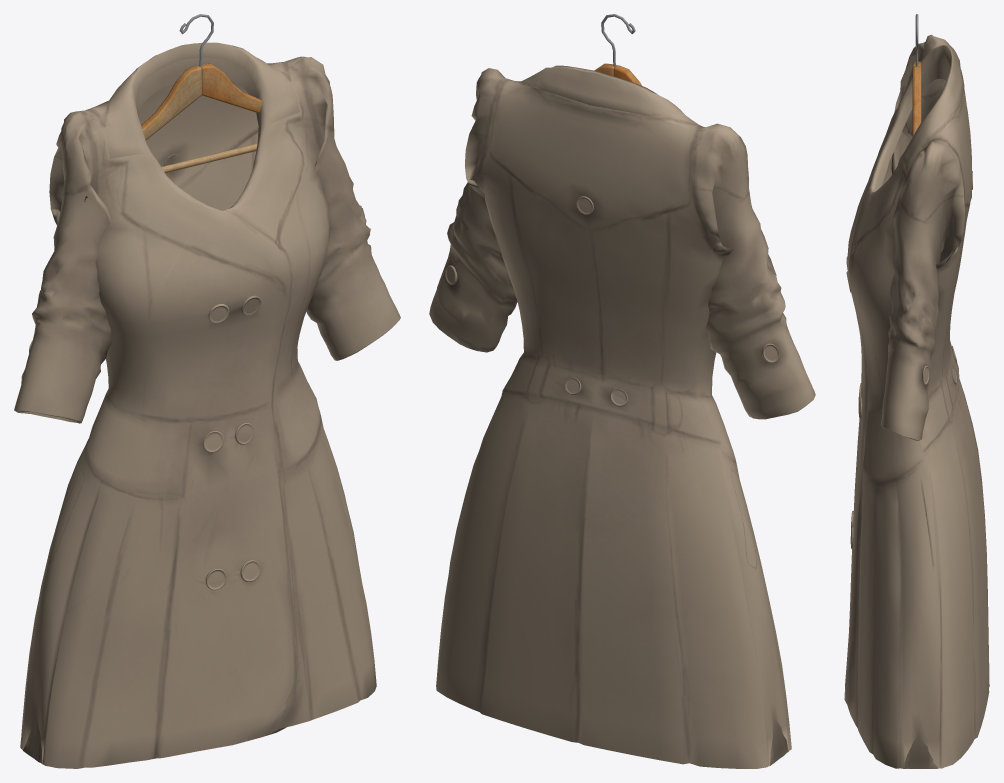
File: tancoat.glb
The picture shows the model from 3 angles, left to right: view 1: azimuth 30°, elevation 25°; view 2: azimuth 150°, elevation 25°; view 3: azimuth 270°, elevation 25°; orthographic projection. The views are drawn at different scales.
Visible parts, largest first — view 1: garment, hanger; view 2: garment, hanger; view 3: garment, hanger.
Part boxes in pixels (box(x1,y1,x2,y2)): garment: box(14, 42, 400, 768); hanger: box(141, 14, 261, 173); garment: box(429, 65, 815, 768); hanger: box(594, 14, 641, 85); garment: box(844, 34, 989, 768); hanger: box(912, 14, 921, 136).
Bounding box in the file's own units: 0.638 × 1.12 × 0.218.
2 materials, 2 textured.
